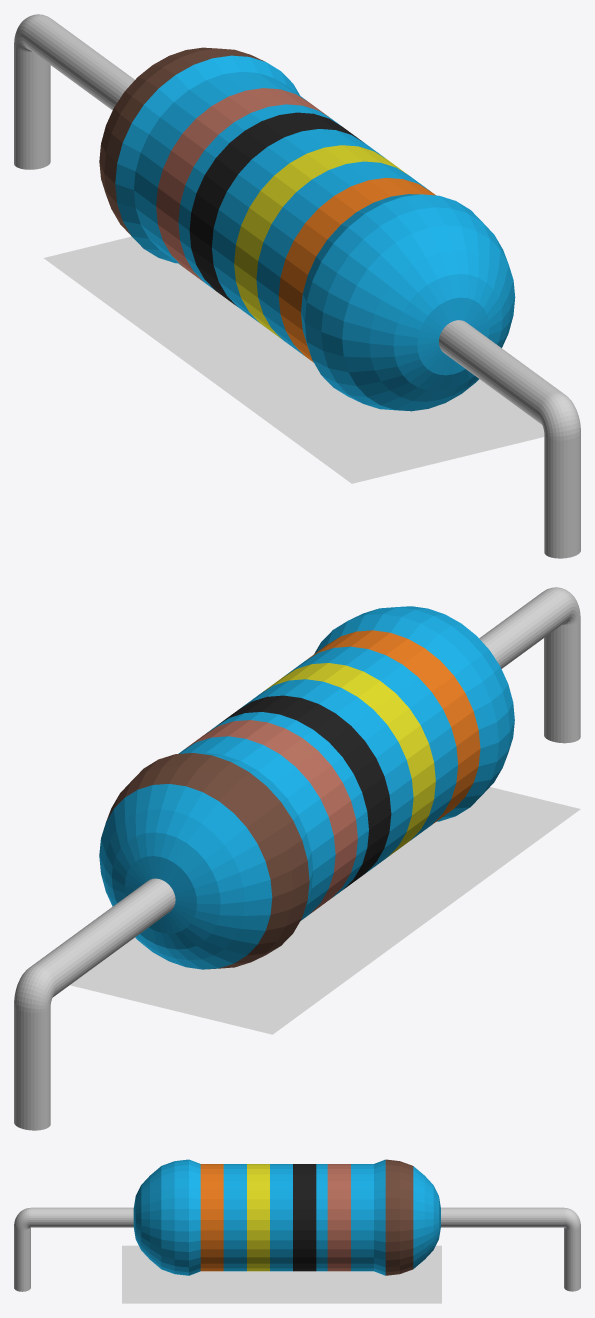
3 renders of one model, top to bottom at view 1: azimuth 30°, elevation 25°; view 2: azimuth 150°, elevation 25°; view 3: azimuth 270°, elevation 25°, orthographic. The views are drawn at different scales.
Parts seen in each view (by area): view 1: R_8, R_8_plane; view 2: R_8, R_8_plane; view 3: R_8, R_8_plane.
Boxes of the visible parts, x1,y1,x2,y2 form: R_8: (14,14,580,558); R_8_plane: (43,236,544,483); R_8: (14,587,580,1130); R_8_plane: (70,787,580,1034); R_8: (14,1159,580,1291); R_8_plane: (122,1245,441,1303).
Size of the model in its own units: 0.0161 by 0.0159 by 0.0664.
